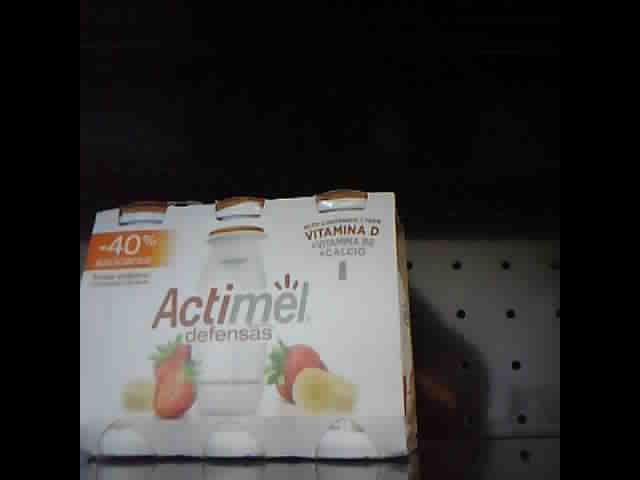actimel: (80, 188, 420, 458)
